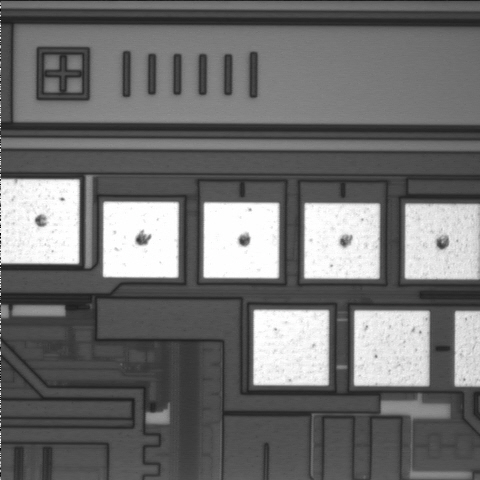pad: (103, 202, 179, 278), (203, 202, 279, 278), (304, 203, 380, 279), (253, 310, 329, 386), (354, 310, 429, 386)
